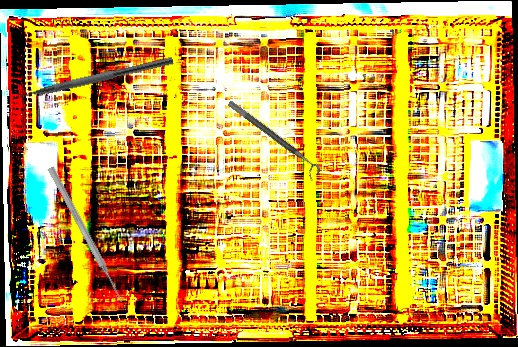Chopper: (6, 45, 174, 106)
Fixation Ring: (221, 99, 323, 182)
Pusher: (45, 165, 127, 305)
